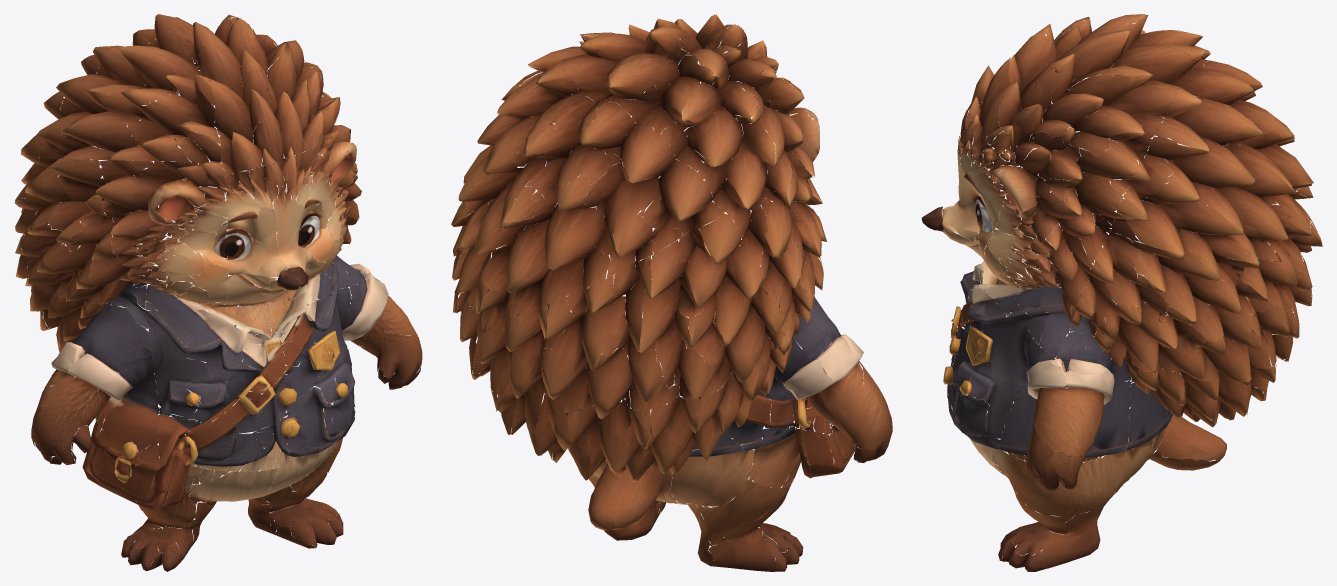
The model's file is 09_notice_hedgehog-v1.glb.
The picture shows the model from 3 angles, left to right: view 1: azimuth 30°, elevation 25°; view 2: azimuth 150°, elevation 25°; view 3: azimuth 270°, elevation 25°; orthographic projection. The views are drawn at different scales.
Parts seen in each view (by area): view 1: tripo_node_dc61051f-7adc-40f7-bbb5-23b0f8cb9c11; view 2: tripo_node_dc61051f-7adc-40f7-bbb5-23b0f8cb9c11; view 3: tripo_node_dc61051f-7adc-40f7-bbb5-23b0f8cb9c11.
Boxes of the visible parts, left/top/right/bottom form: tripo_node_dc61051f-7adc-40f7-bbb5-23b0f8cb9c11: left=14, top=14, right=422, bottom=571; tripo_node_dc61051f-7adc-40f7-bbb5-23b0f8cb9c11: left=451, top=14, right=892, bottom=571; tripo_node_dc61051f-7adc-40f7-bbb5-23b0f8cb9c11: left=921, top=14, right=1322, bottom=571.
Bounding box in the file's own units: 1.2 × 1.5 × 1.1.
1 material, 1 textured.
